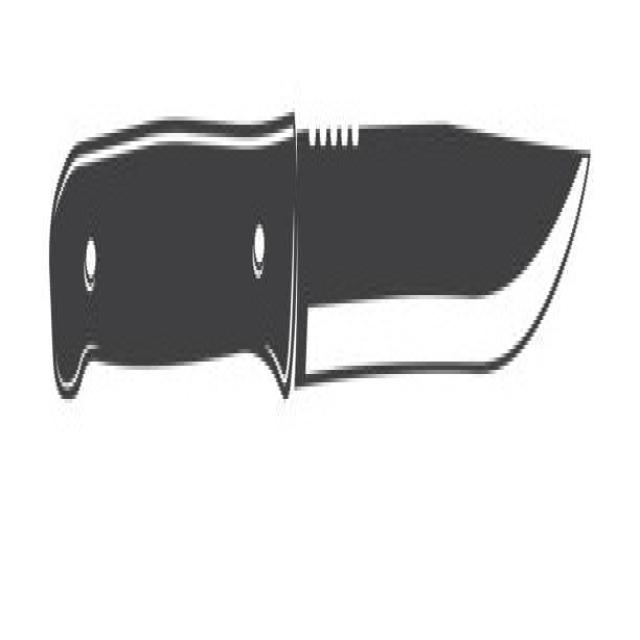knife: (43, 66, 596, 406)
